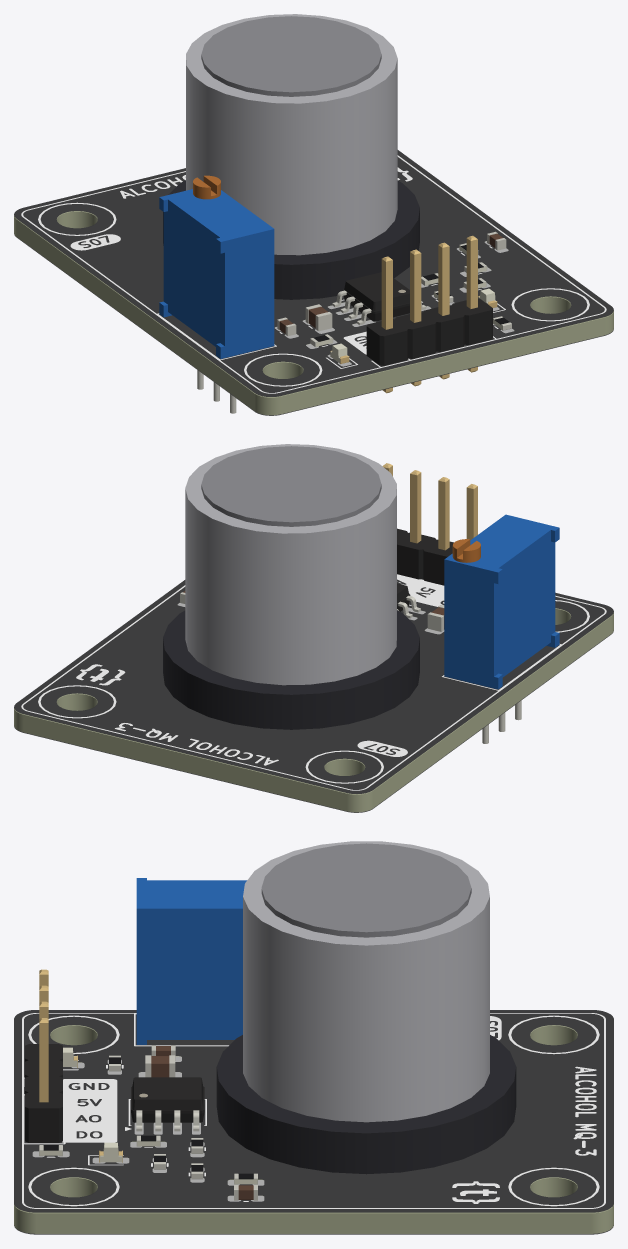
3 views of the same model, one above another, from view 1: azimuth 30°, elevation 25°; view 2: azimuth 150°, elevation 25°; view 3: azimuth 270°, elevation 25° (orthographic). The views are drawn at different scales.
Parts seen in each view (by area): view 1: =>[0:1:1:13], MQ_Gas_1, RV1, =>[0:1:1:15], MQ_Gas_2, J1, MQ_Gas_0, =>[0:1:1:11], U2, =>[0:1:1:10], =>[0:1:1:14], C3; view 2: MQ_Gas_1, =>[0:1:1:13], RV1, MQ_Gas_0, =>[0:1:1:15], MQ_Gas_2, =>[0:1:1:11], J1, =>[0:1:1:14]; view 3: =>[0:1:1:13], MQ_Gas_1, MQ_Gas_0, RV1, =>[0:1:1:15], MQ_Gas_2, =>[0:1:1:11], J1, U2, =>[0:1:1:10], C3, =>[0:1:1:14].
Part boxes in pixels (bbox=[...]): =>[0:1:1:13]: bbox=[14, 150, 613, 396]; MQ_Gas_1: bbox=[186, 14, 397, 255]; RV1: bbox=[159, 175, 274, 413]; =>[0:1:1:15]: bbox=[14, 211, 613, 415]; MQ_Gas_2: bbox=[201, 16, 381, 96]; J1: bbox=[366, 235, 492, 393]; MQ_Gas_0: bbox=[163, 180, 419, 299]; =>[0:1:1:11]: bbox=[21, 155, 606, 393]; U2: bbox=[332, 272, 426, 325]; =>[0:1:1:10]: bbox=[275, 241, 514, 366]; =>[0:1:1:14]: bbox=[14, 234, 613, 415]; C3: bbox=[305, 304, 332, 331]; MQ_Gas_1: bbox=[185, 444, 396, 685]; =>[0:1:1:13]: bbox=[14, 579, 613, 793]; RV1: bbox=[444, 514, 559, 743]; MQ_Gas_0: bbox=[163, 610, 419, 729]; =>[0:1:1:15]: bbox=[14, 608, 613, 812]; MQ_Gas_2: bbox=[201, 446, 381, 526]; =>[0:1:1:11]: bbox=[21, 574, 606, 790]; J1: bbox=[382, 463, 477, 585]; =>[0:1:1:14]: bbox=[14, 631, 613, 812]; =>[0:1:1:13]: bbox=[14, 1010, 613, 1212]; MQ_Gas_1: bbox=[243, 841, 489, 1122]; MQ_Gas_0: bbox=[216, 1035, 516, 1174]; RV1: bbox=[136, 878, 246, 1044]; =>[0:1:1:15]: bbox=[14, 1025, 613, 1233]; MQ_Gas_2: bbox=[261, 843, 471, 937]; =>[0:1:1:11]: bbox=[22, 1013, 605, 1208]; J1: bbox=[25, 969, 62, 1142]; U2: bbox=[131, 1077, 204, 1131]; =>[0:1:1:10]: bbox=[32, 1056, 264, 1201]; C3: bbox=[145, 1055, 175, 1077]; =>[0:1:1:14]: bbox=[14, 1225, 613, 1234].
Bounding box in the file's own units: 0.032 × 0.0224 × 0.04.
